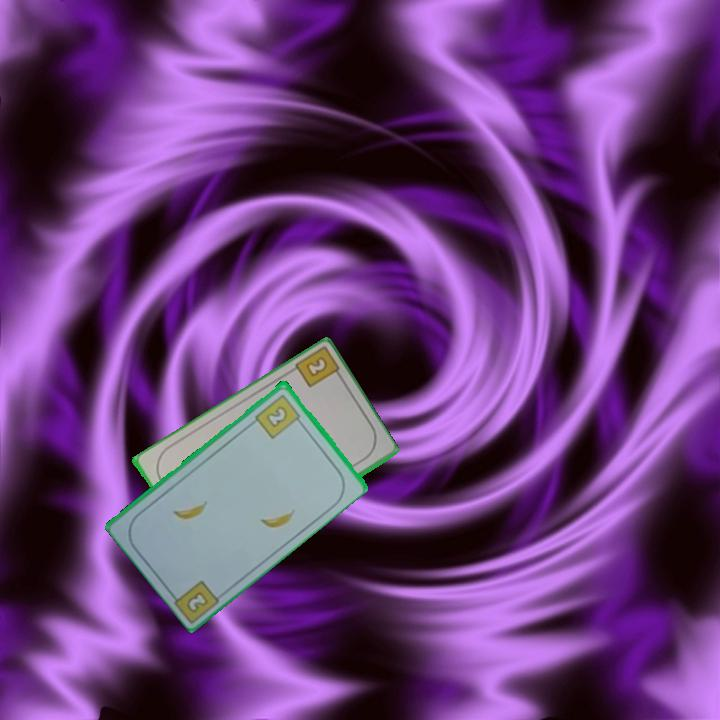2b: (252, 390, 305, 441), (183, 587, 211, 615), (302, 353, 331, 380)
